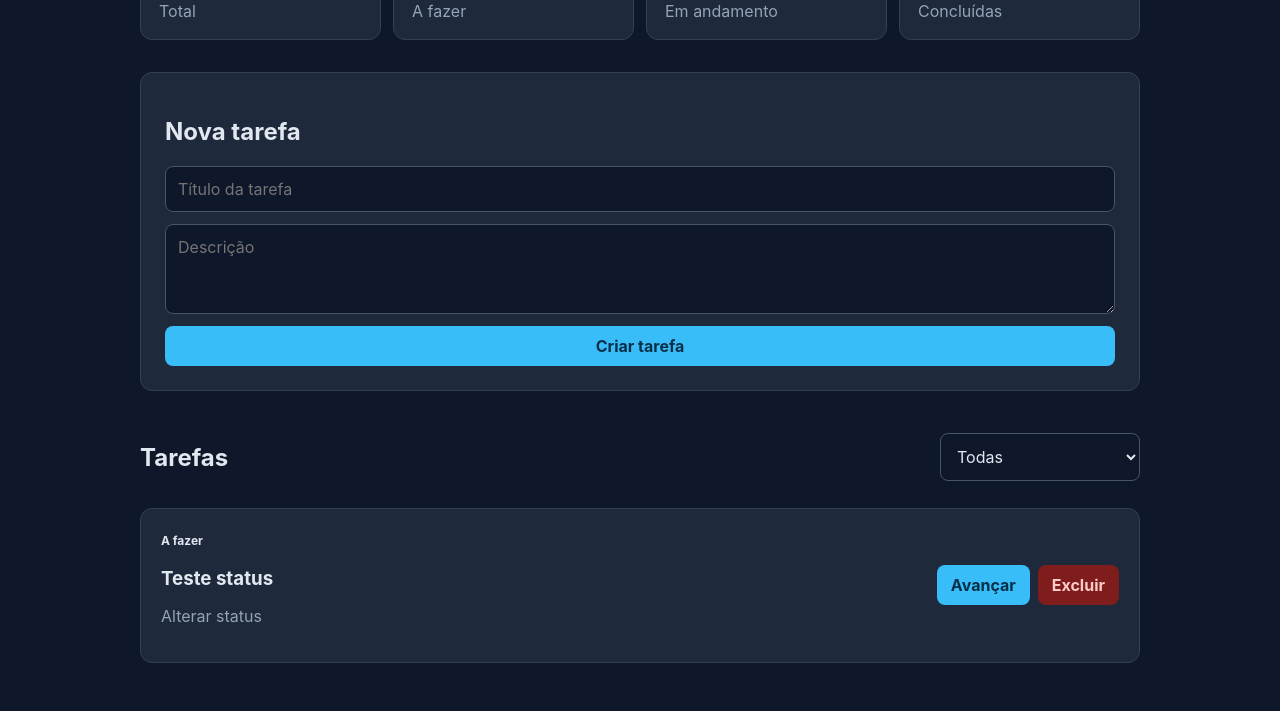
TaskFlow › deve avançar o status da tarefa
(page scrolled)
Expected: the text "Teste status" is shown, 161,567 -> 273,590
Expected: the text with class "status" reads "A fazer", 161,533 -> 203,548
What coordinates should you click on to do the following:
click the button "Avançar"
I would click on:
 (983, 586)
Its box is 937,566 -> 1030,606.
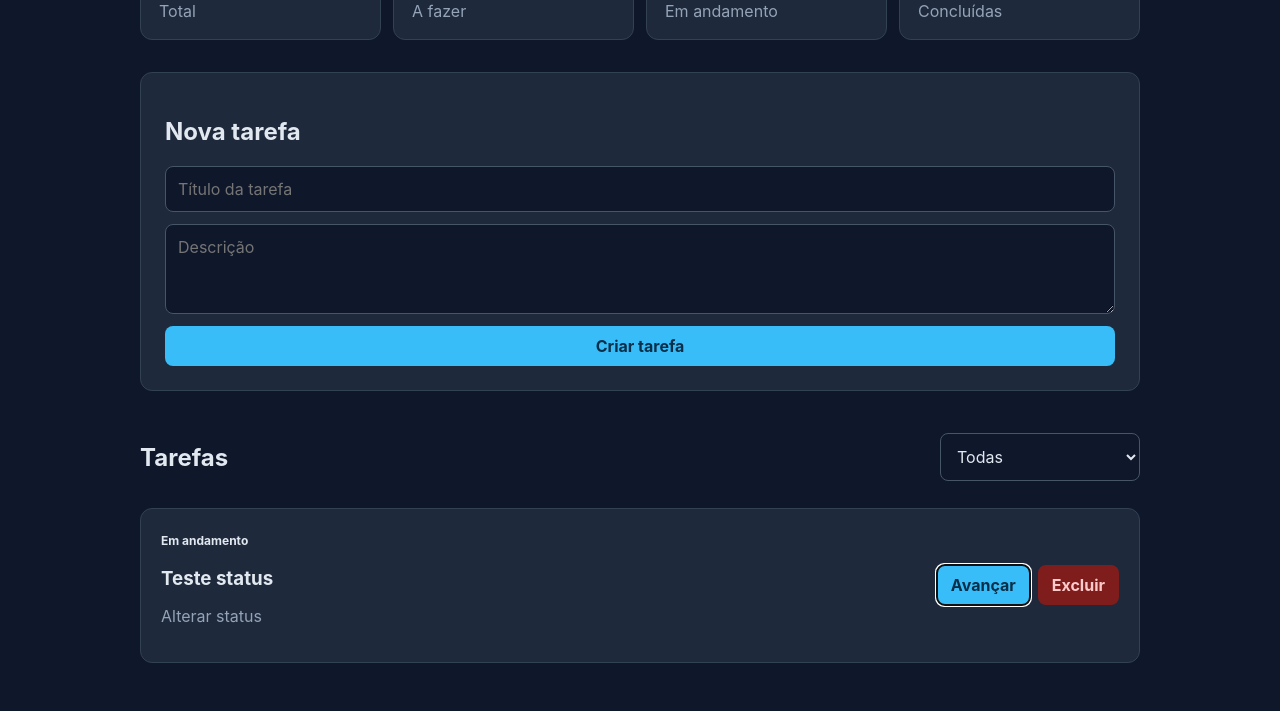
Expected: the text with class "status" reads "Em andamento", 161,533 -> 248,548
